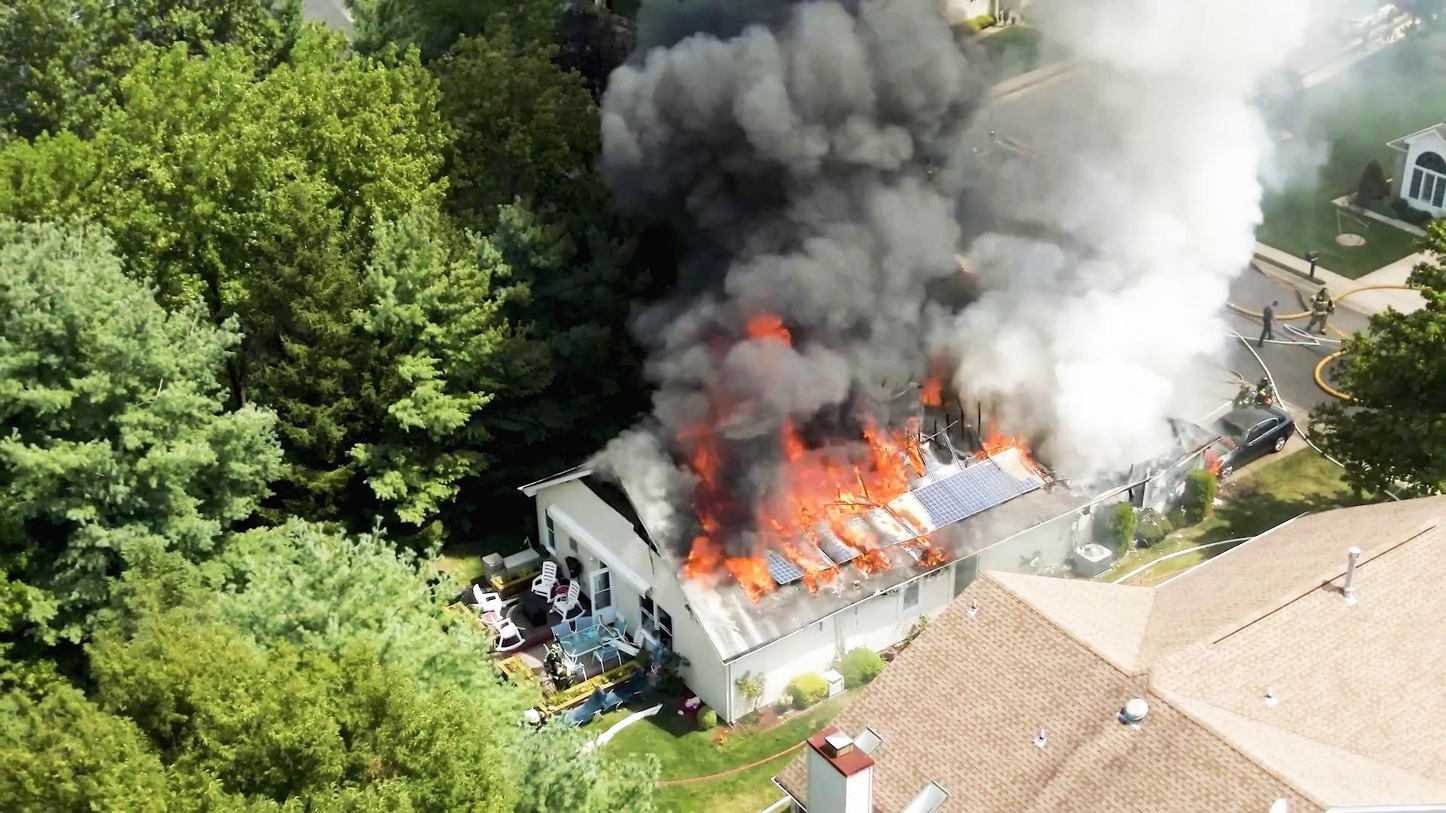fire: (790, 439, 923, 524)
smoke: (624, 0, 925, 364), (1004, 0, 1236, 399)
